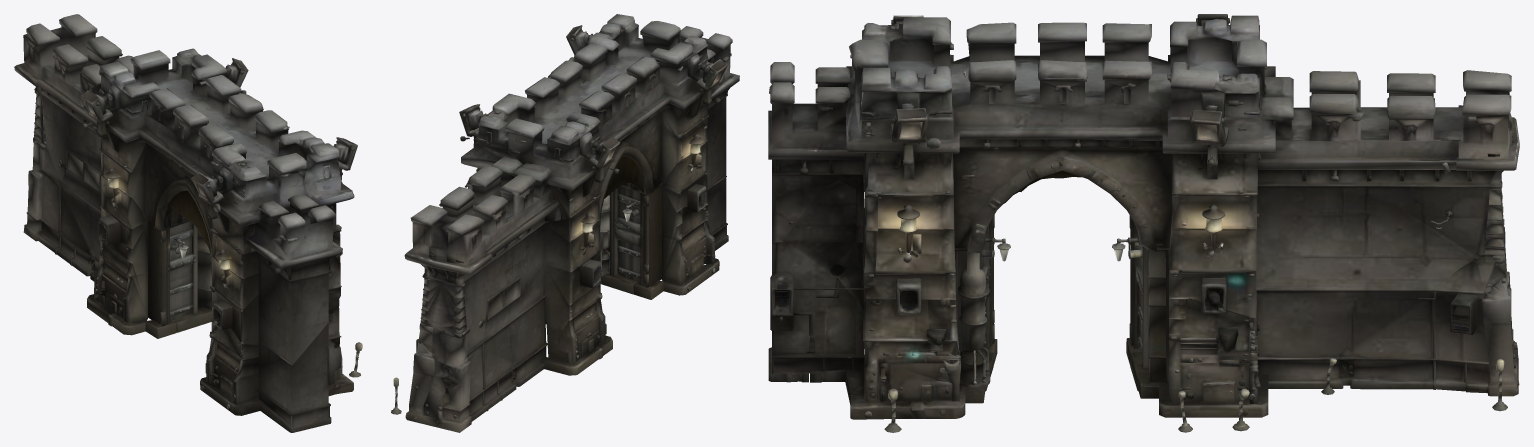
File: castle_gate.glb
The picture shows the model from 3 angles, left to right: view 1: azimuth 30°, elevation 25°; view 2: azimuth 150°, elevation 25°; view 3: azimuth 270°, elevation 25°; orthographic projection. The views are drawn at different scales.
Parts seen in each view (by area): view 1: tripo_node_7aea7e7a-9ec2-421b-8121-e4ae9f7e7f19; view 2: tripo_node_7aea7e7a-9ec2-421b-8121-e4ae9f7e7f19; view 3: tripo_node_7aea7e7a-9ec2-421b-8121-e4ae9f7e7f19.
Boxes of the visible parts, x1,y1,x2,y2 form: tripo_node_7aea7e7a-9ec2-421b-8121-e4ae9f7e7f19: (14, 14, 362, 432); tripo_node_7aea7e7a-9ec2-421b-8121-e4ae9f7e7f19: (391, 14, 739, 432); tripo_node_7aea7e7a-9ec2-421b-8121-e4ae9f7e7f19: (768, 14, 1519, 432).
Size of the model in its own units: 0.3472 by 0.4927 by 0.9995.
Materials: 1 (1 with a texture image).
